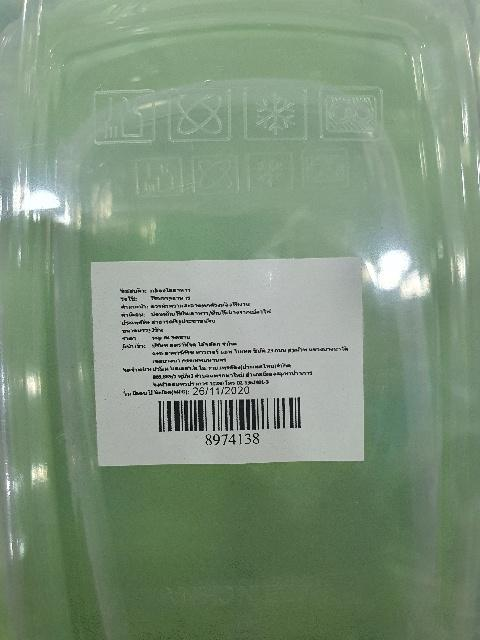Barcode: (151, 393, 309, 446)
